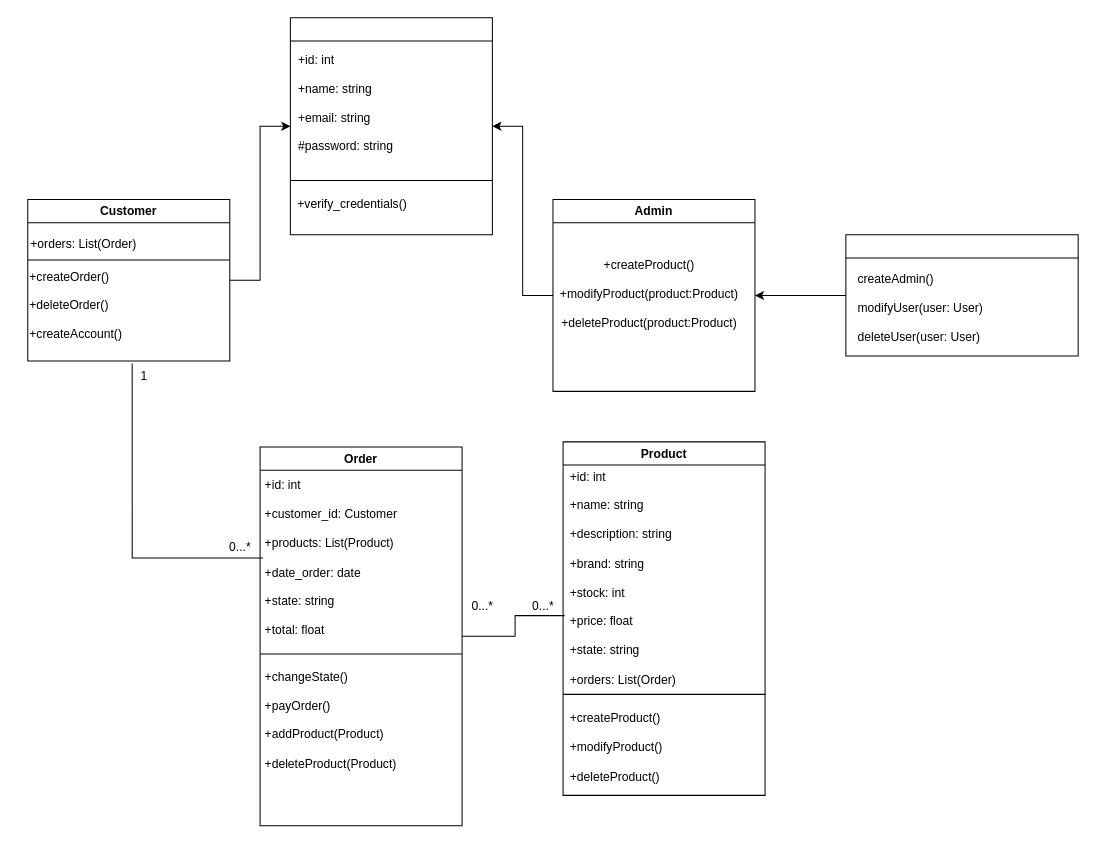
Some shapes in this 1096 by 843 pixel diagram are drawn without their labels. The box of each missing label's shape, as (x1, y1, x2, y2) in pixels:
SuperAdmin: (845, 234, 1078, 356)
User: (289, 17, 492, 235)
